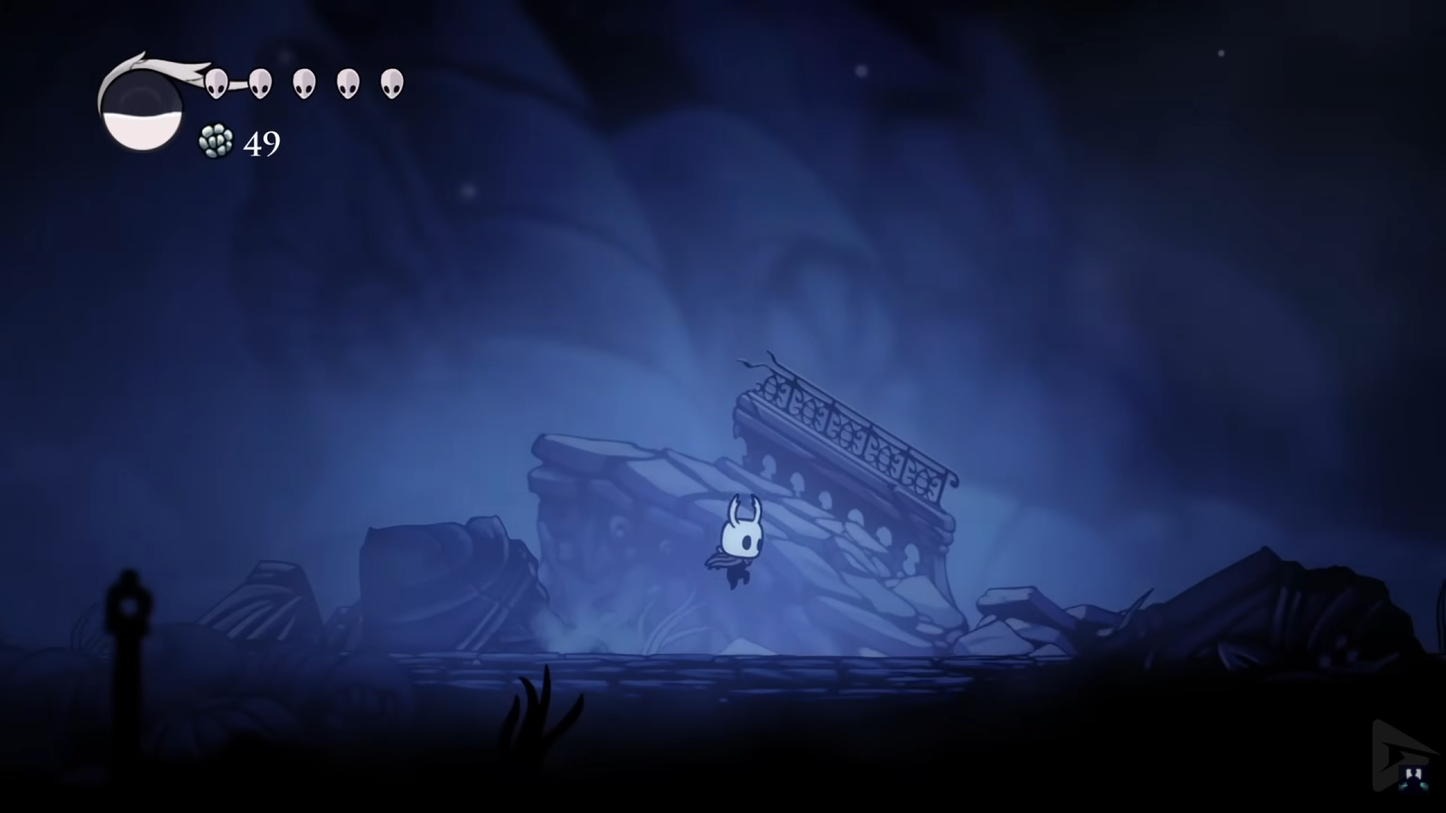HK: (709, 493, 769, 593)
